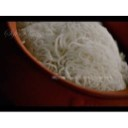idiyappam: (18, 18, 125, 86)
